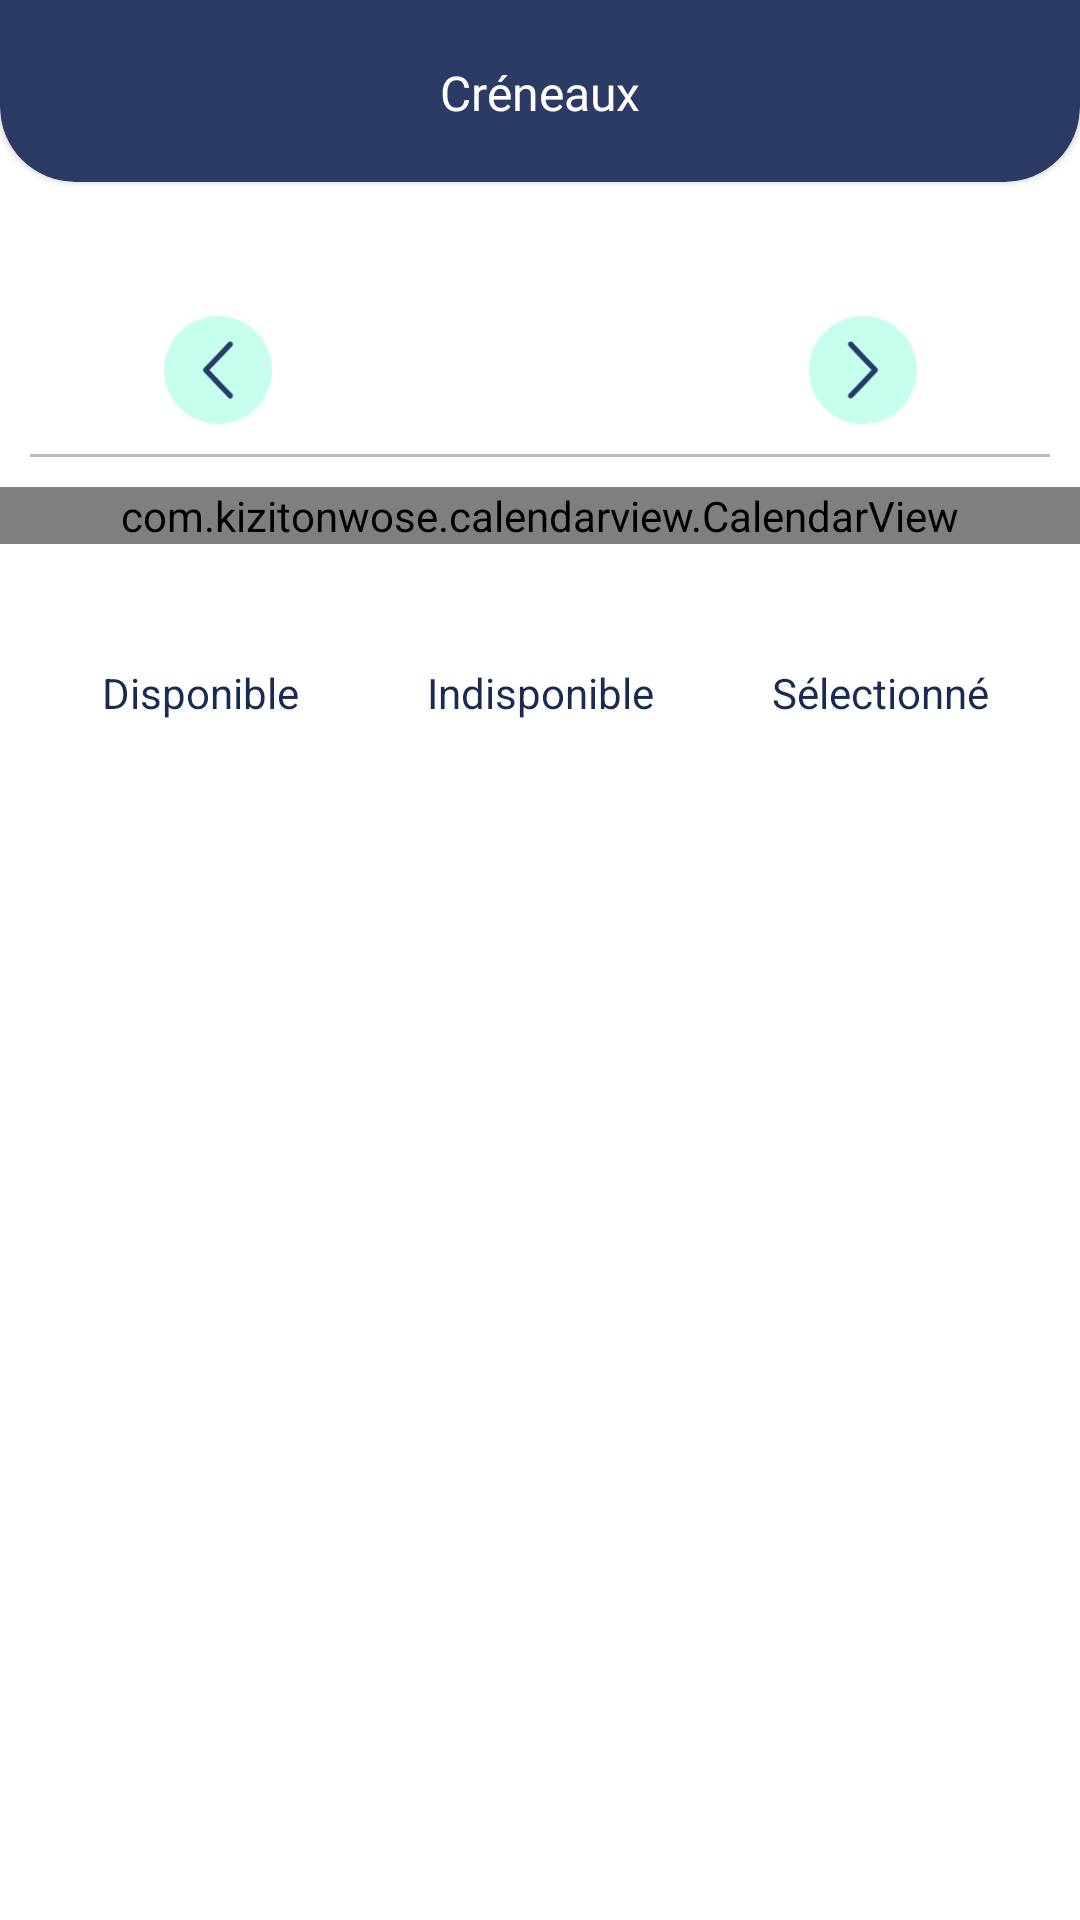

Where to tap for icons on this 1080x1920 app screen, as [x,y]:
left arrow: [218,370]
right arrow: [863,370]
